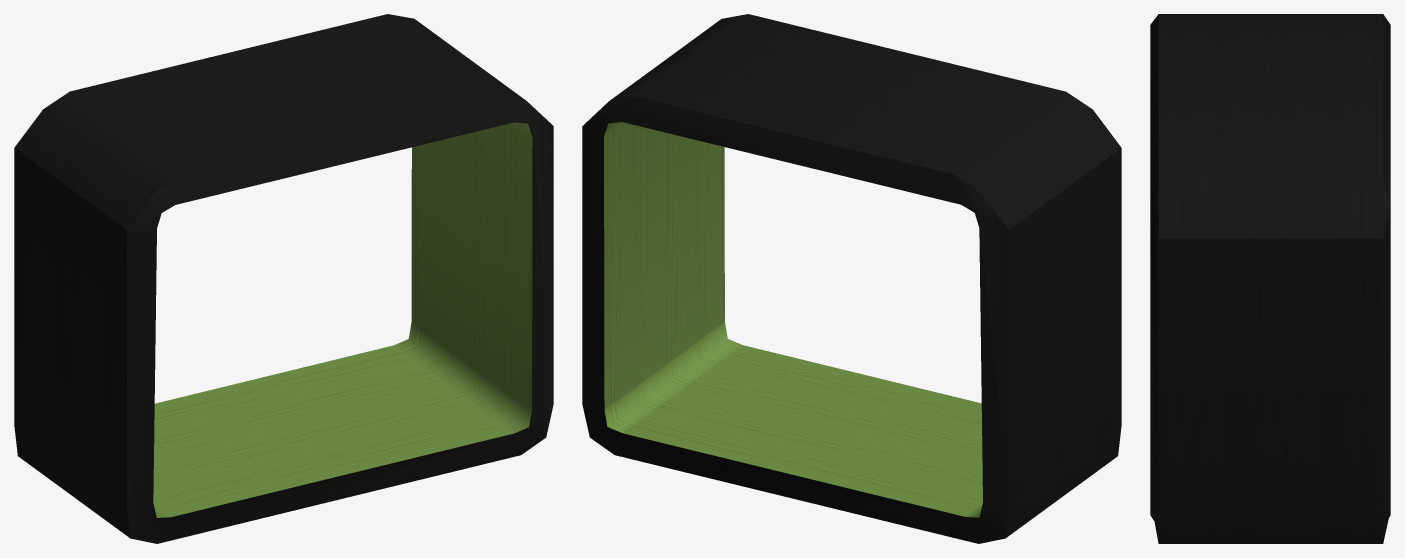
File: Wall_Shelf_02_B.FBX
3 renders of one model, left to right at view 1: azimuth 30°, elevation 25°; view 2: azimuth 150°, elevation 25°; view 3: azimuth 270°, elevation 25°, orthographic.
Parts seen in each view (by area): view 1: Wall_Shelf_02; view 2: Wall_Shelf_02; view 3: Wall_Shelf_02.
Boxes of the visible parts, box(x1,y1,x2,y2) form: Wall_Shelf_02: box(14, 14, 553, 543); Wall_Shelf_02: box(582, 14, 1121, 543); Wall_Shelf_02: box(1150, 14, 1390, 543).
Size of the model in its own units: 120 by 98.08 by 58.85.
